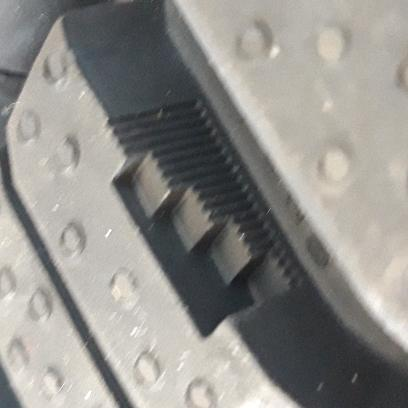temoin:100: (101, 97, 311, 344)
